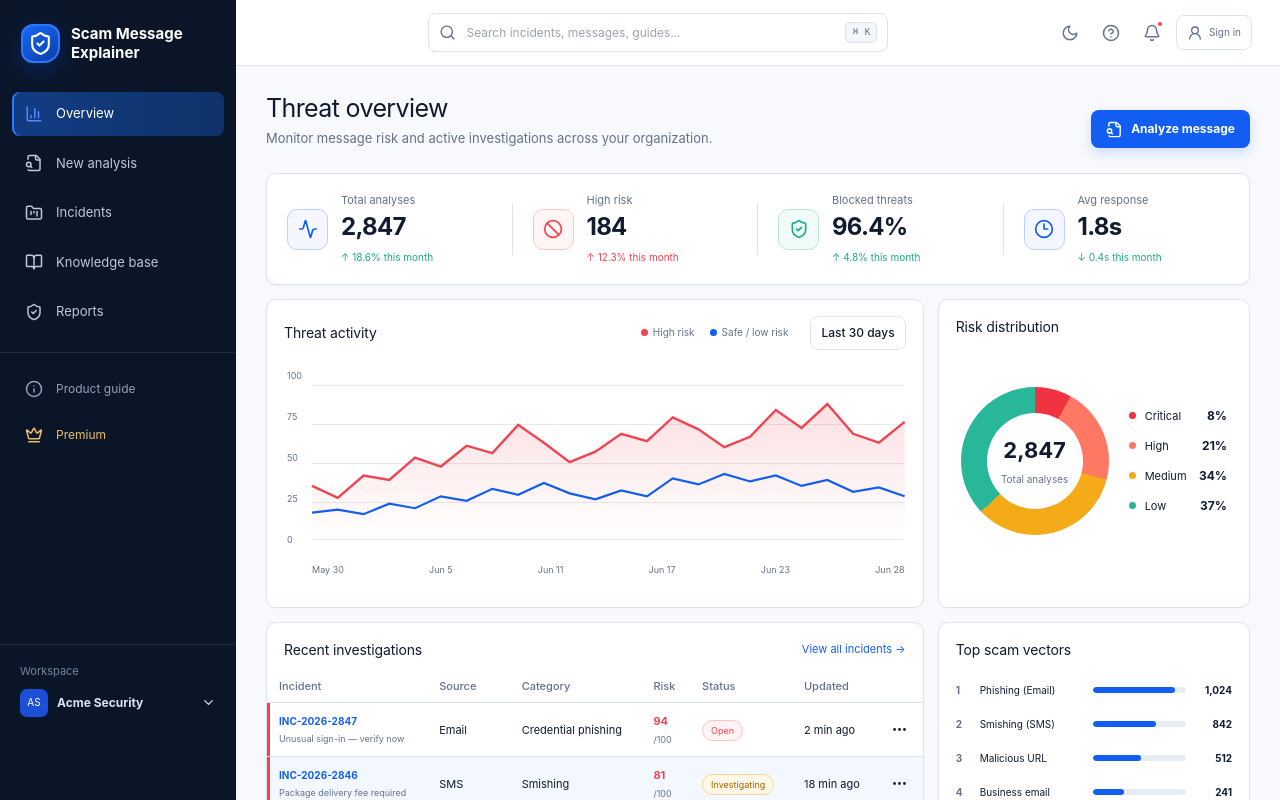
Scenario: startup product workflows › selects and persists a premium plan
The width and height of the screenshot is (1280, 800).
Click the button "Premium": (118, 434) [12,414,224,454]
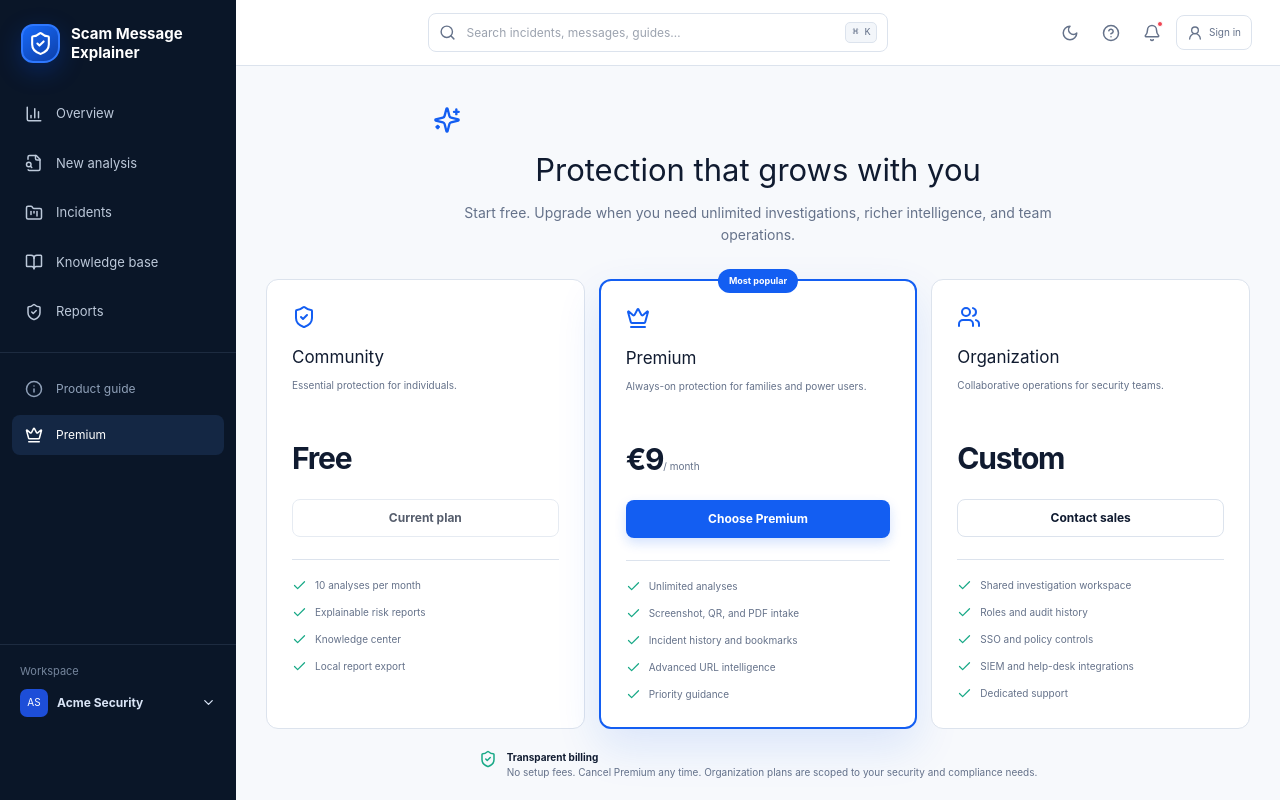
Click the button "Choose Premium": (758, 519) [626,500,890,538]
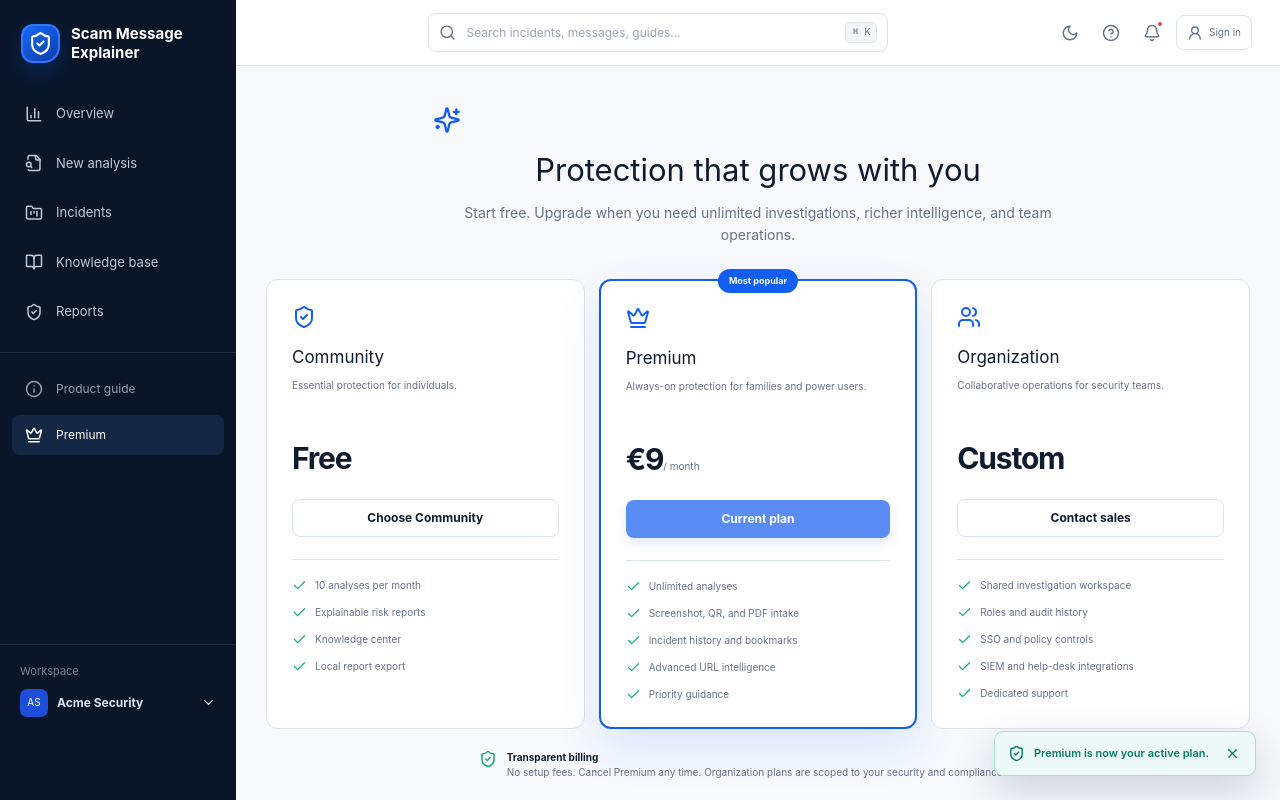
Expected: the text "Premium" is shown, [56,426,106,444]
Expected: the button "Current plan" is disabled, [626,500,890,538]
